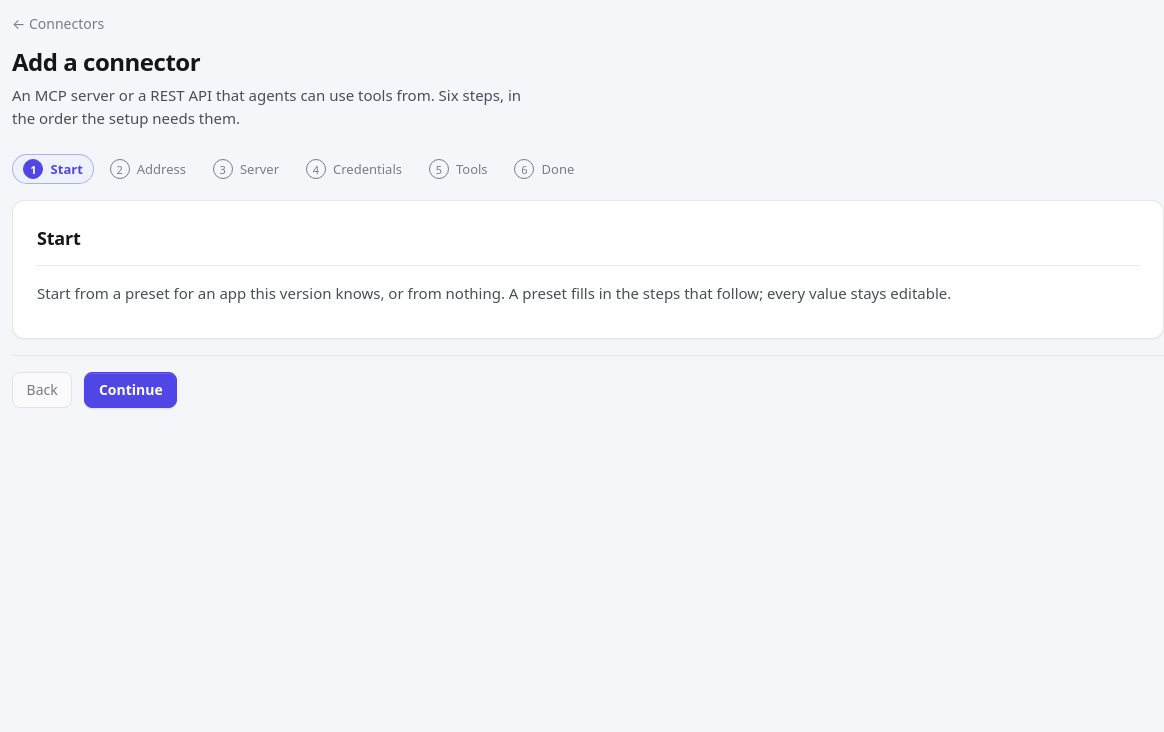
Test: the host gate, on the address step › does not count a host that can never be dialled as an approved one
Expected: the heading "Start" is shown, top-left (37, 225), bottom-right (81, 253)
Click the button "Continue": (131, 390) top-left (84, 372), bottom-right (177, 408)
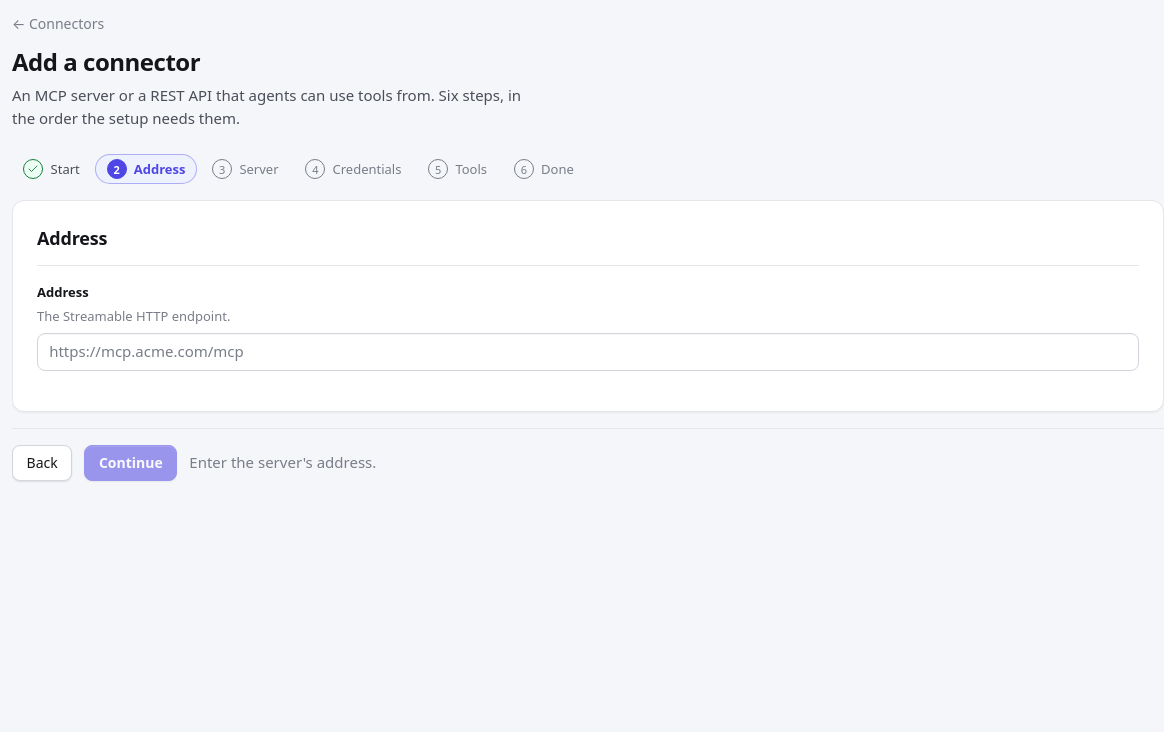
In the field with placeholder "https://mcp.acme.com/mcp": (588, 352) top-left (37, 333), bottom-right (1139, 371), type "http://localhost/mcp"
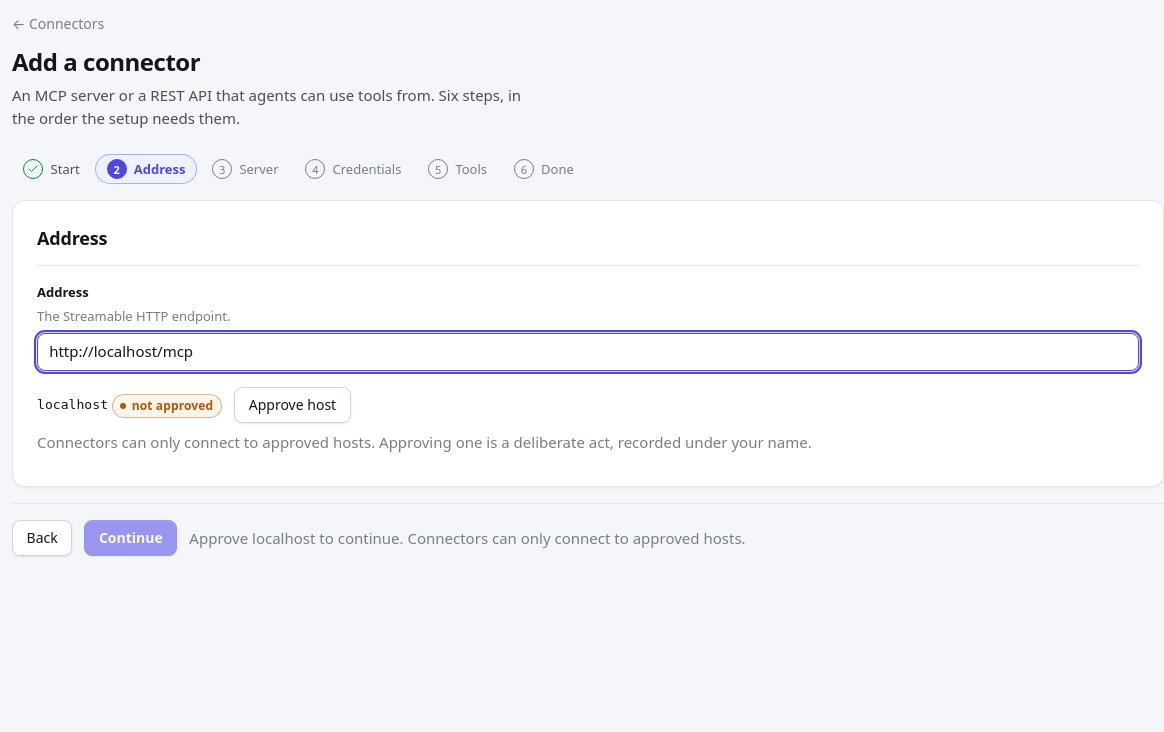
Expected: the button "Continue" is disabled, top-left (84, 520), bottom-right (177, 556)
Expected: the text "not approved" is shown, top-left (112, 394), bottom-right (222, 418)
